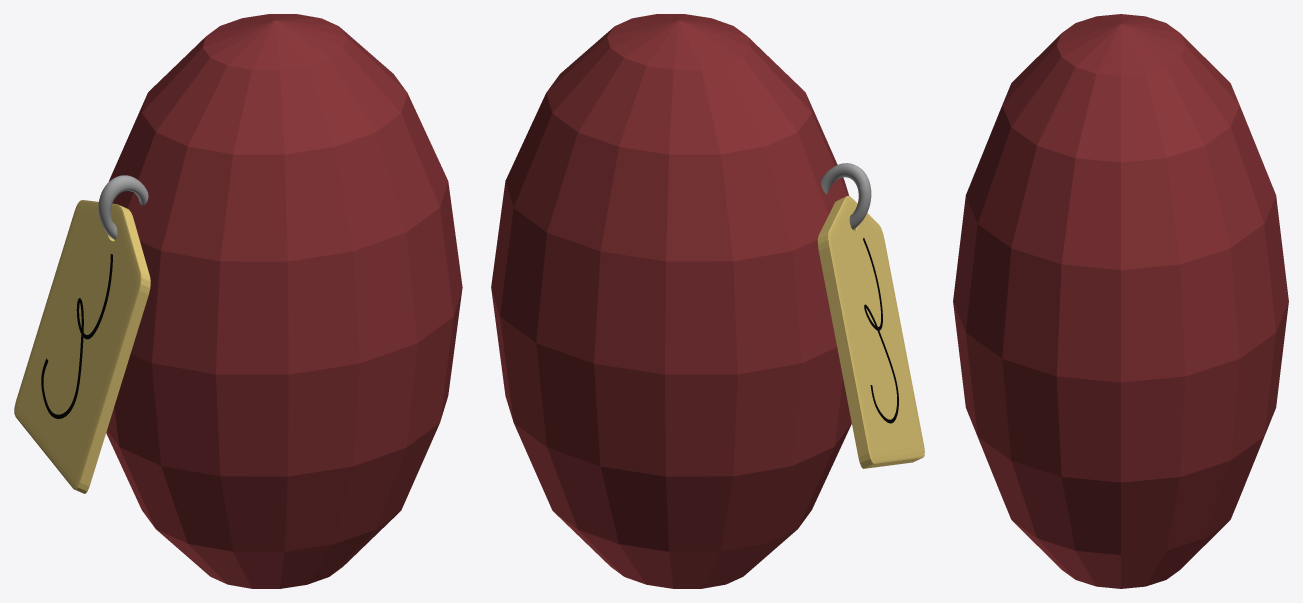
Rendered from DedBean.fbx.
The picture shows the model from 3 angles, left to right: view 1: azimuth 30°, elevation 25°; view 2: azimuth 150°, elevation 25°; view 3: azimuth 270°, elevation 25°; orthographic projection.
Visible parts, largest first — view 1: Sphere.002, Cube; view 2: Sphere.002, Cube; view 3: Sphere.002.
Part boxes in pixels (<box>): Sphere.002: <box>106,14,462,588</box>; Cube: <box>14,175,150,493</box>; Sphere.002: <box>491,14,851,588</box>; Cube: <box>817,163,924,468</box>; Sphere.002: <box>953,14,1288,588</box>.
Bounding box in the file's own units: 269 × 365 × 200.
